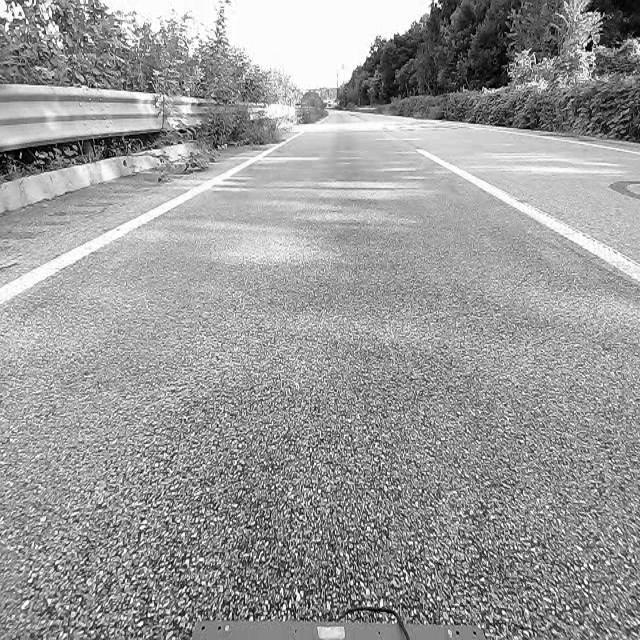Lane: (0, 135, 288, 317), (0, 141, 287, 306), (412, 143, 640, 298), (416, 148, 639, 284)
